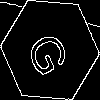G: (25, 25, 77, 80)
